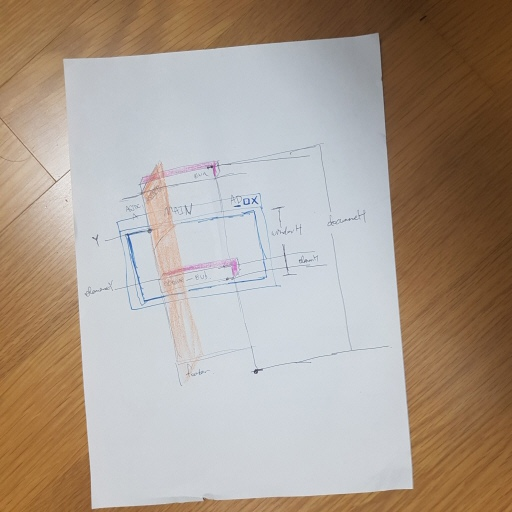Paper_2: (50, 32, 415, 509)
